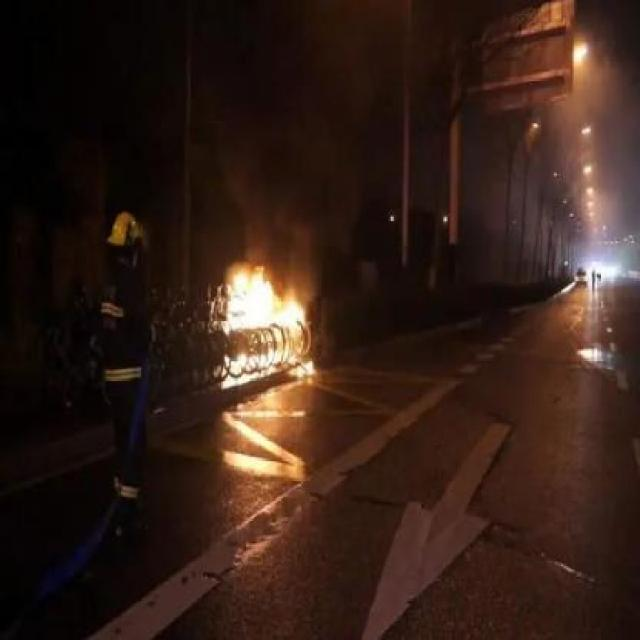Fire: (225, 264, 310, 372)
Smoke: (213, 9, 390, 271)
